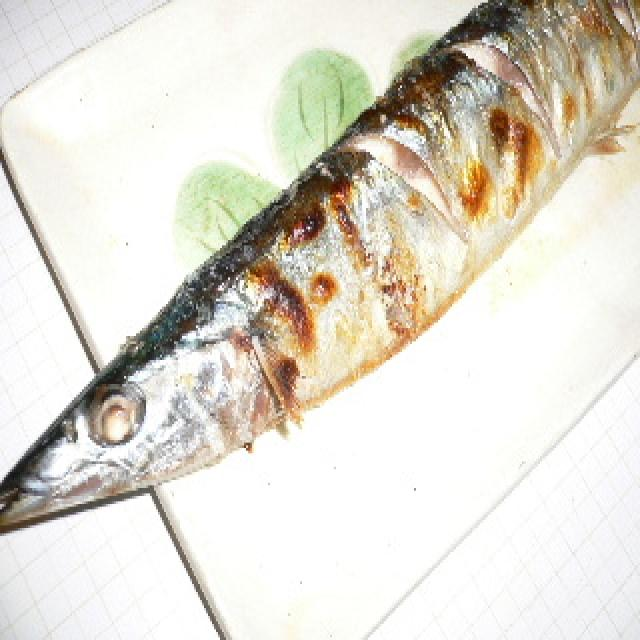熟制海鲜: (0, 0, 628, 549)
